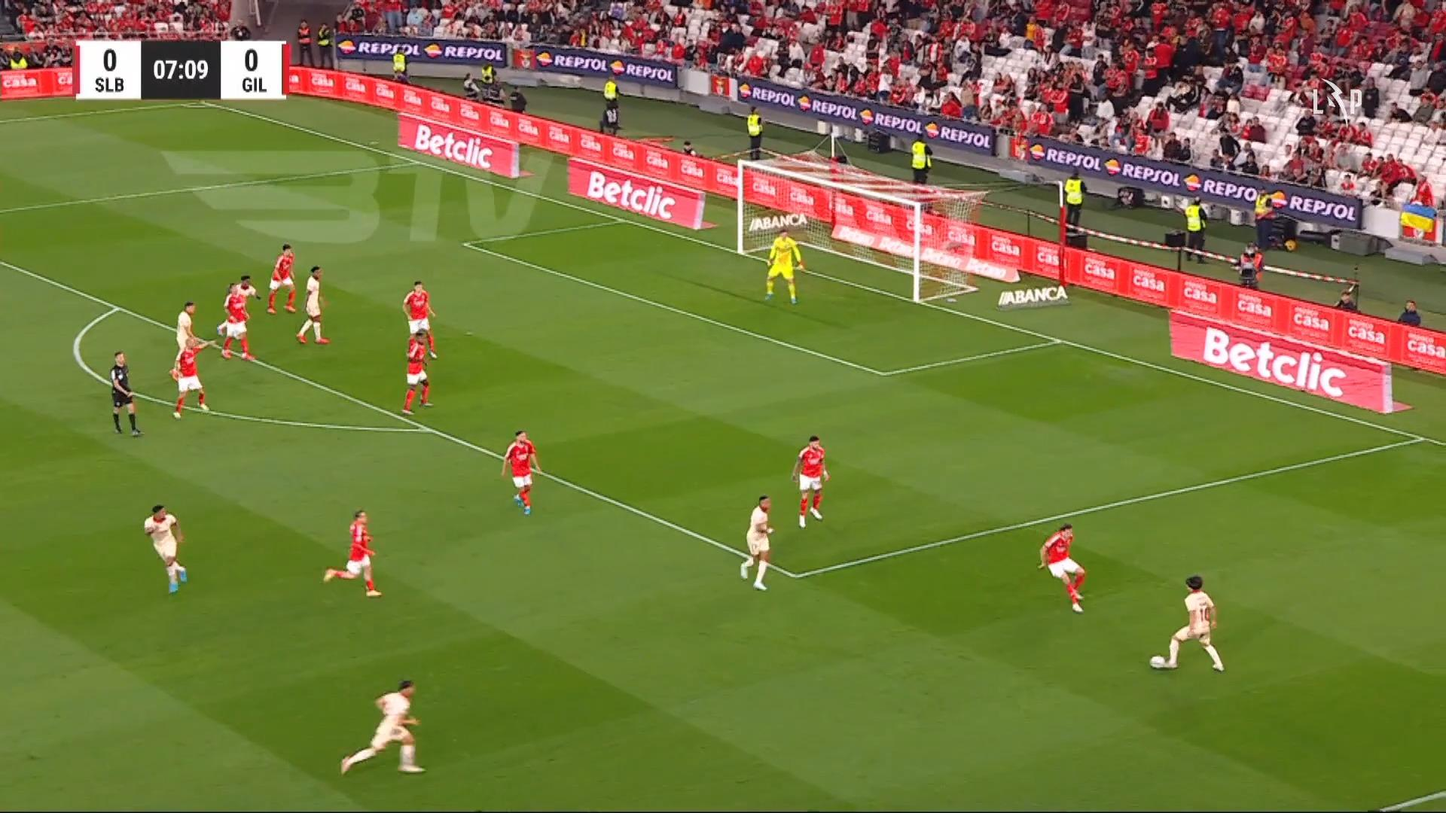ball: (1149, 655, 1164, 667)
goalkeeper: (763, 227, 804, 304)
player: (340, 678, 426, 775), (1151, 574, 1225, 671), (322, 509, 382, 597), (1036, 522, 1086, 613), (142, 504, 188, 594), (169, 336, 216, 419), (217, 274, 260, 361), (791, 434, 829, 528), (500, 429, 541, 516), (739, 495, 774, 590), (172, 300, 217, 369), (401, 279, 438, 359), (401, 329, 435, 415), (295, 265, 330, 345), (265, 243, 297, 314)
referee: (108, 350, 142, 437)
